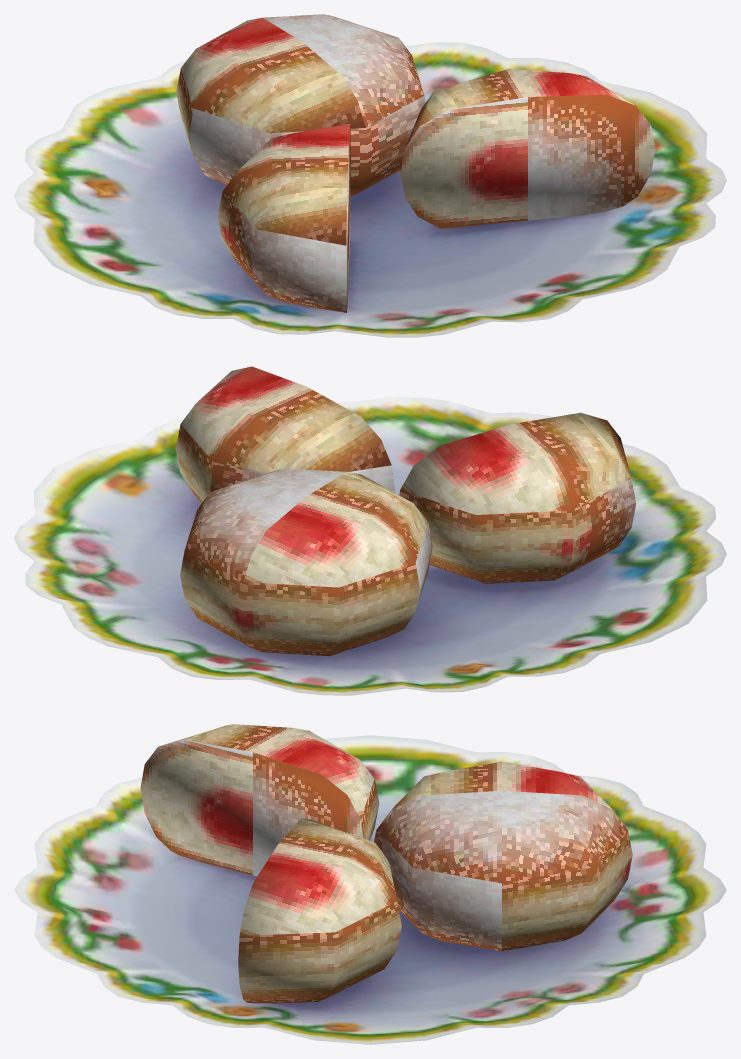
The model's file is int_oth_berliner.dae.
3 views of the same model, one above another, from view 1: azimuth 30°, elevation 25°; view 2: azimuth 150°, elevation 25°; view 3: azimuth 270°, elevation 25° (orthographic).
Visible parts, largest first — view 1: int_oth_berliner; view 2: int_oth_berliner; view 3: int_oth_berliner.
Part boxes in pixels (bbox=[...]): int_oth_berliner: bbox=[14, 14, 726, 337]; int_oth_berliner: bbox=[14, 366, 726, 695]; int_oth_berliner: bbox=[14, 724, 726, 1044].
Size of the model in its own units: 23.34 by 4.67 by 22.7.
2 materials, 2 textured.
